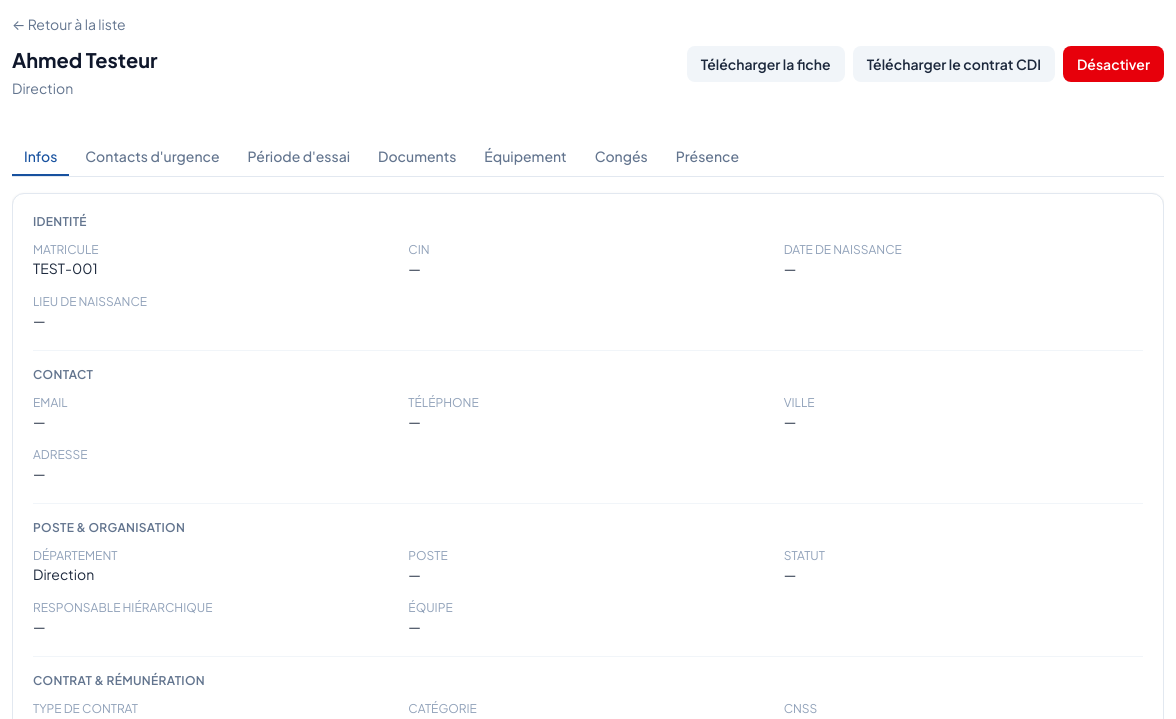
EmployeeDetailPage › shows the solde and leave request history on the Congés tab
Check: the heading "Ahmed Testeur" is shown, box [12,46,158,74]
Click the button "Congés". click: {"x": 621, "y": 157}
box: [583,138,660,176]
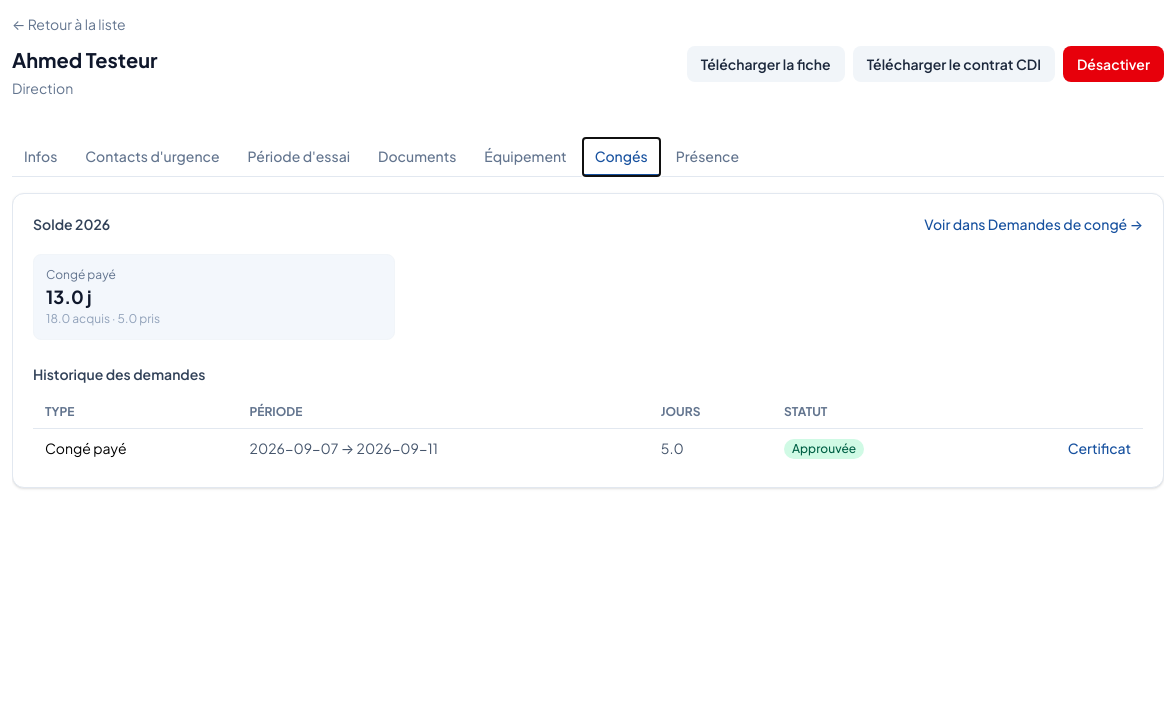
Check: the text "13.0 j" is shown, box [46,285,92,308]
Check: the text "Congé payé" is shown, box [46,267,116,282]
Check: the link "Certificat" is shown, box [1068,439,1131,457]
